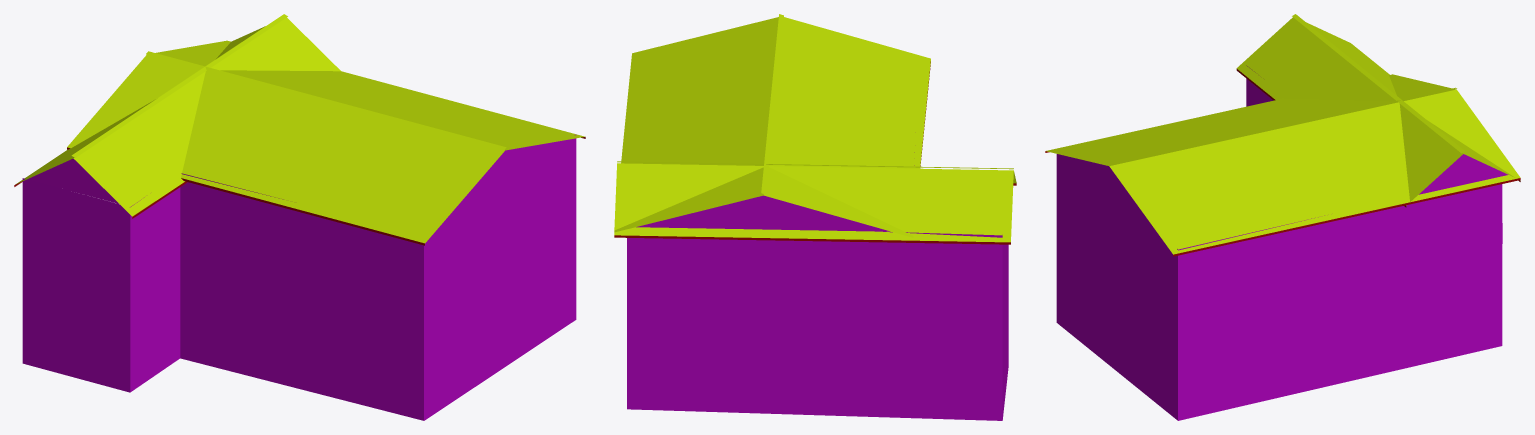
The model's file is epa_10.glb.
3 renders of one model, left to right at view 1: azimuth 30°, elevation 25°; view 2: azimuth 150°, elevation 25°; view 3: azimuth 270°, elevation 25°, orthographic. The views are drawn at different scales.
Parts seen in each view (by area): view 1: epa_10; view 2: epa_10; view 3: epa_10.
Part boxes in pixels (left/top/right/bottom): epa_10: left=14, top=14, right=585, bottom=420; epa_10: left=614, top=14, right=1016, bottom=420; epa_10: left=1045, top=14, right=1520, bottom=420.
Bounding box in the file's own units: 26.54 × 12.03 × 24.91.
